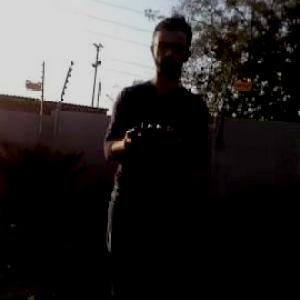follow: (95, 4, 212, 299)
